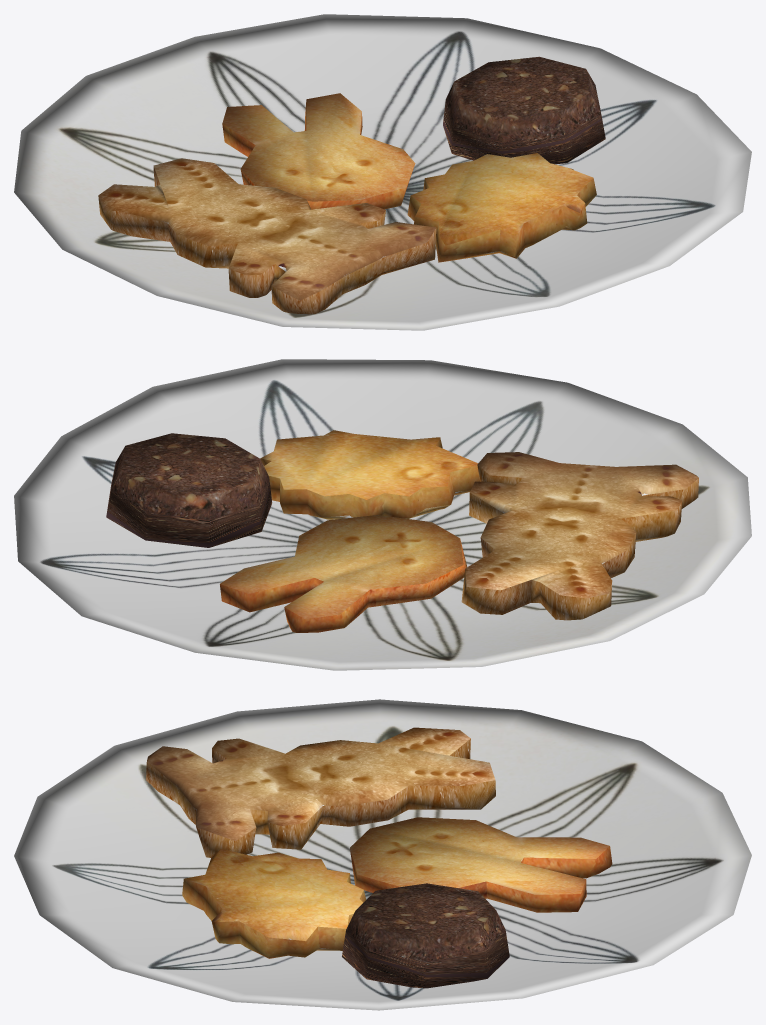
The model's file is PlateWithCookies.fbx.
3 renders of one model, top to bottom at view 1: azimuth 30°, elevation 25°; view 2: azimuth 150°, elevation 25°; view 3: azimuth 270°, elevation 25°, orthographic.
Visible parts, largest first — view 1: Plate, CookieBunny, CookieMiffy, CookieHedge, CookieChocolate; view 2: Plate, CookieBunny, CookieMiffy, CookieChocolate, CookieHedge; view 3: Plate, CookieBunny, CookieMiffy, CookieHedge, CookieChocolate.
Boxes of the visible parts, x1=… form: Plate: x1=14, y1=14, x2=751, y2=330; CookieBunny: x1=98, y1=158, x2=436, y2=314; CookieMiffy: x1=222, y1=93, x2=415, y2=209; CookieHedge: x1=407, y1=153, x2=596, y2=262; CookieChocolate: x1=443, y1=56, x2=605, y2=164; Plate: x1=14, y1=359, x2=751, y2=670; CookieBunny: x1=461, y1=452, x2=698, y2=620; CookieMiffy: x1=220, y1=515, x2=467, y2=632; CookieChocolate: x1=106, y1=433, x2=272, y2=547; CookieHedge: x1=260, y1=430, x2=479, y2=519; Plate: x1=14, y1=699, x2=751, y2=1010; CookieBunny: x1=146, y1=727, x2=495, y2=857; CookieMiffy: x1=350, y1=817, x2=612, y2=912; CookieHedge: x1=182, y1=849, x2=365, y2=958; CookieChocolate: x1=342, y1=883, x2=509, y2=988.
Size of the model in its own units: 30 by 3.27 by 30.
